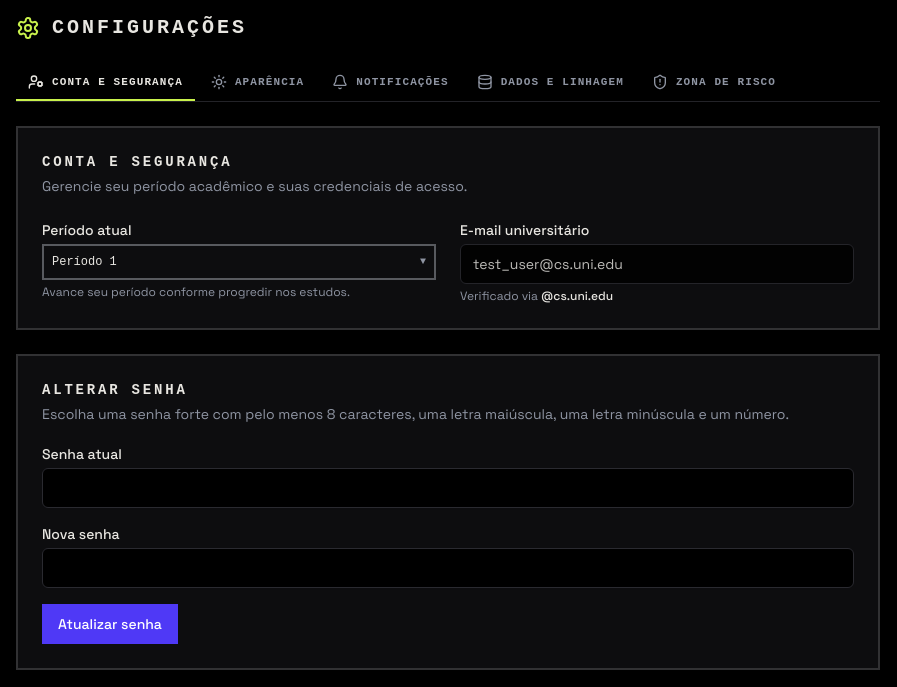
it: SettingsPage › switches tabs and renders the theme selector
Step 1. Click the tab "Aparência" → (258, 83), box [199,66,316,100]
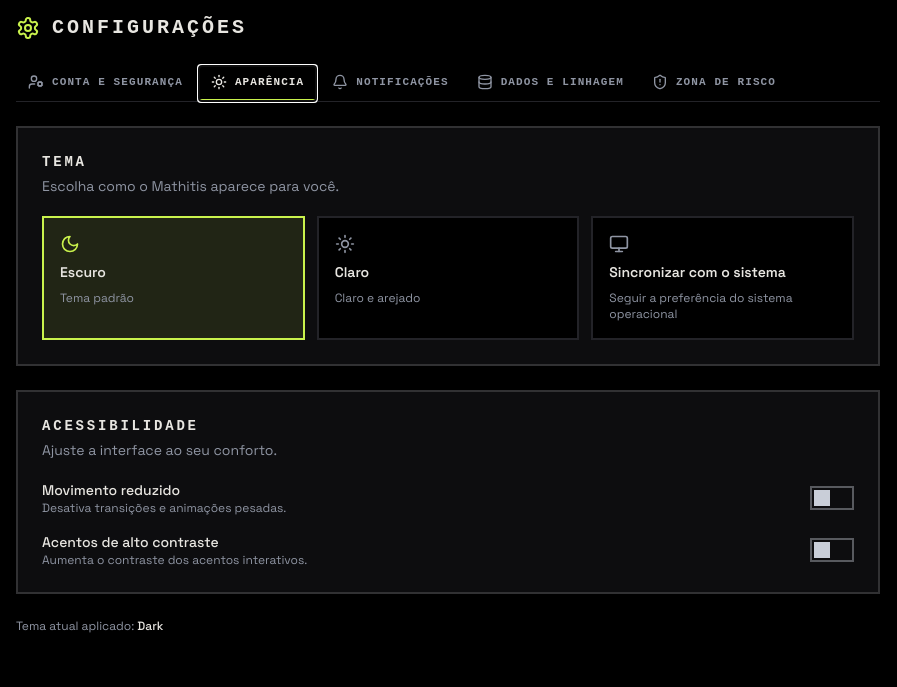
Now the button "Escuro Tema padrão" is shown, box [42,216,305,340]
Now the button "Claro Claro e arejado" is shown, box [317,216,579,340]
Now the button "Sincronizar com o sistema" is shown, box [591,216,854,340]
